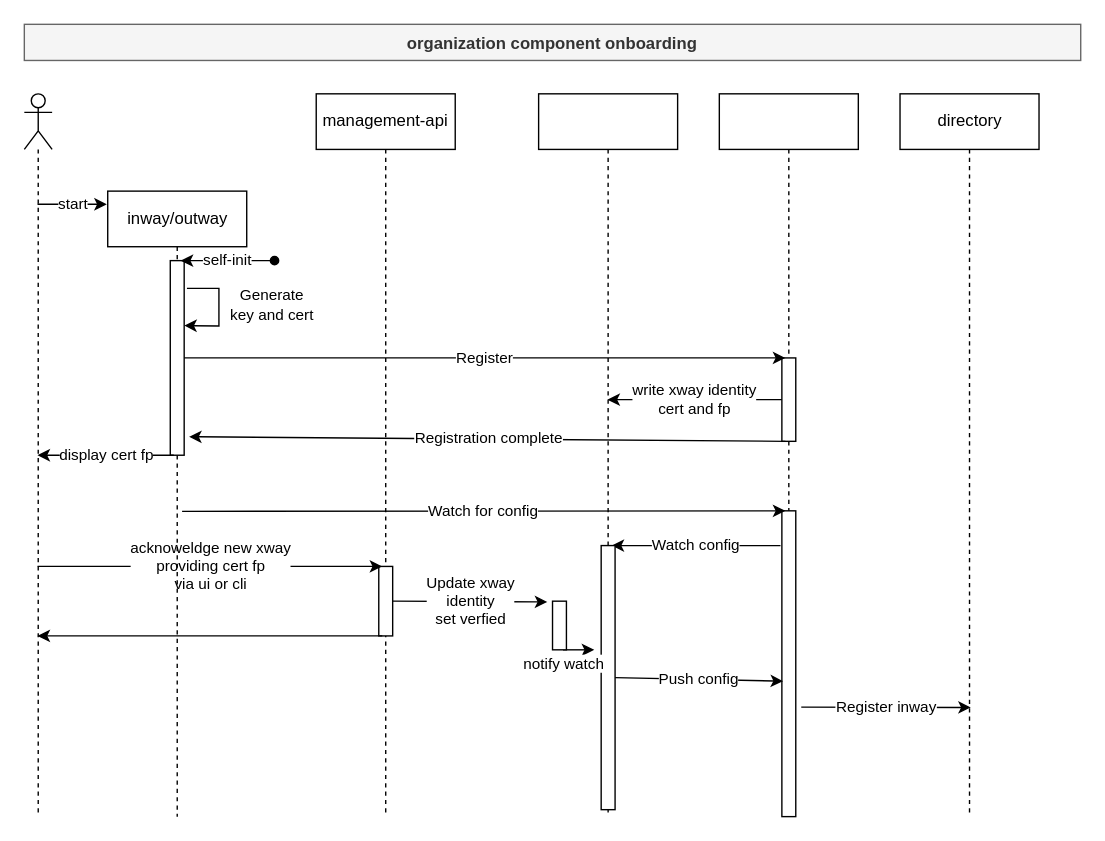
Image size: 1105x841. Some labels were removed from this diagram. Here are the shapes that lost their labels. From the top down, the box of each, then its label:
(537, 92, 678, 817): config (etcd)
(718, 92, 858, 817): config-api
